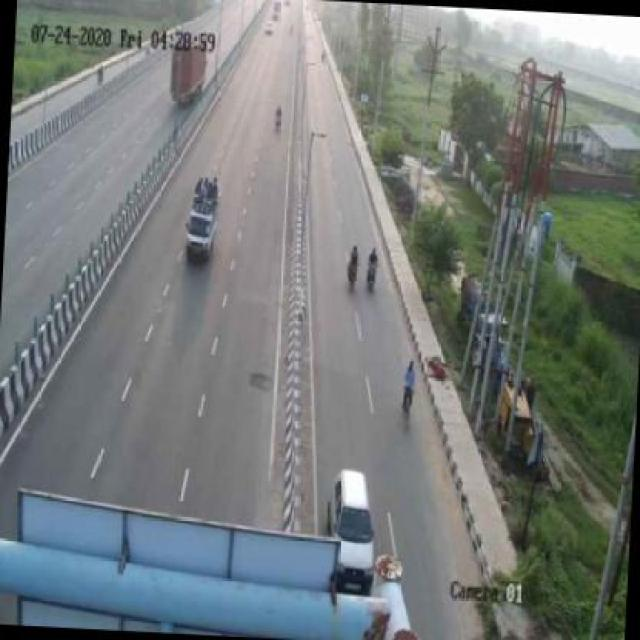car: (318, 460, 391, 597), (174, 174, 226, 274)
